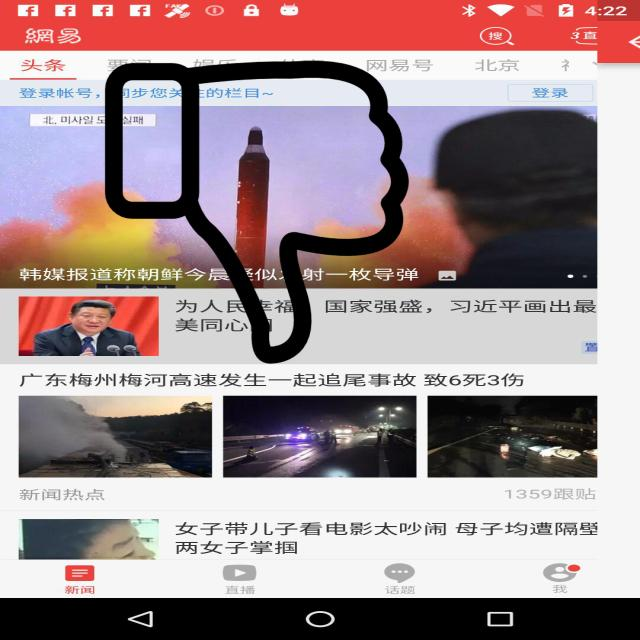obstruction: (101, 60, 413, 364)
